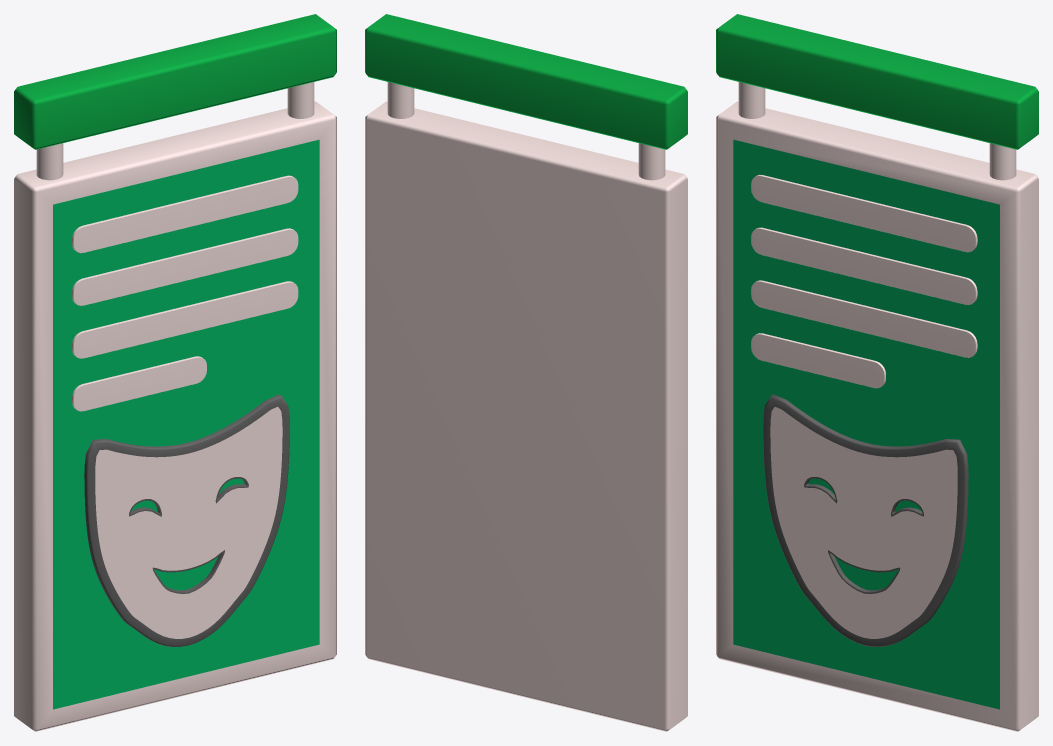
Rendered from Public_12_Theatre_Poster_2.glb.
3 renders of one model, left to right at view 1: azimuth 30°, elevation 25°; view 2: azimuth 150°, elevation 25°; view 3: azimuth 330°, elevation 25°, orthographic.
Visible parts, largest first — view 1: Public_12_Theatre_Poster_2; view 2: Public_12_Theatre_Poster_2; view 3: Public_12_Theatre_Poster_2.
Part boxes in pixels (x1,y1,x2,y2): Public_12_Theatre_Poster_2: (14,14,336,731); Public_12_Theatre_Poster_2: (365,14,687,731); Public_12_Theatre_Poster_2: (716,14,1038,731).
Bounding box in the file's own units: 1.38 × 2.73 × 0.1894.
1 material, 1 textured.
